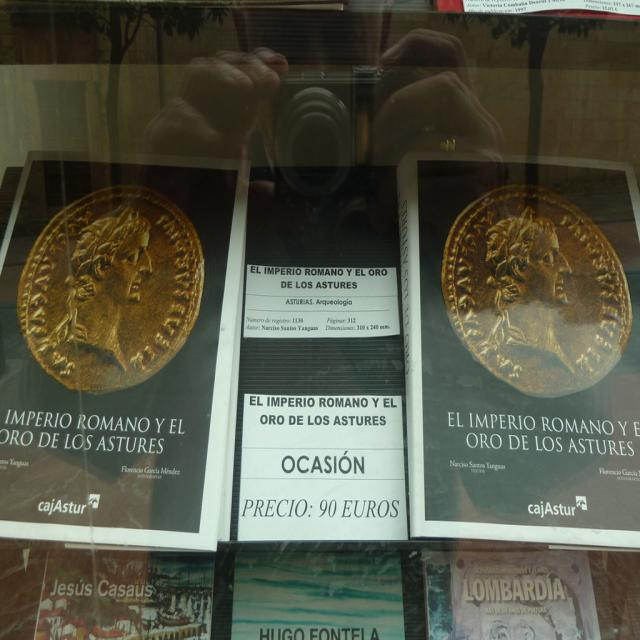Coin: (439, 181, 636, 395), (15, 181, 206, 392)
